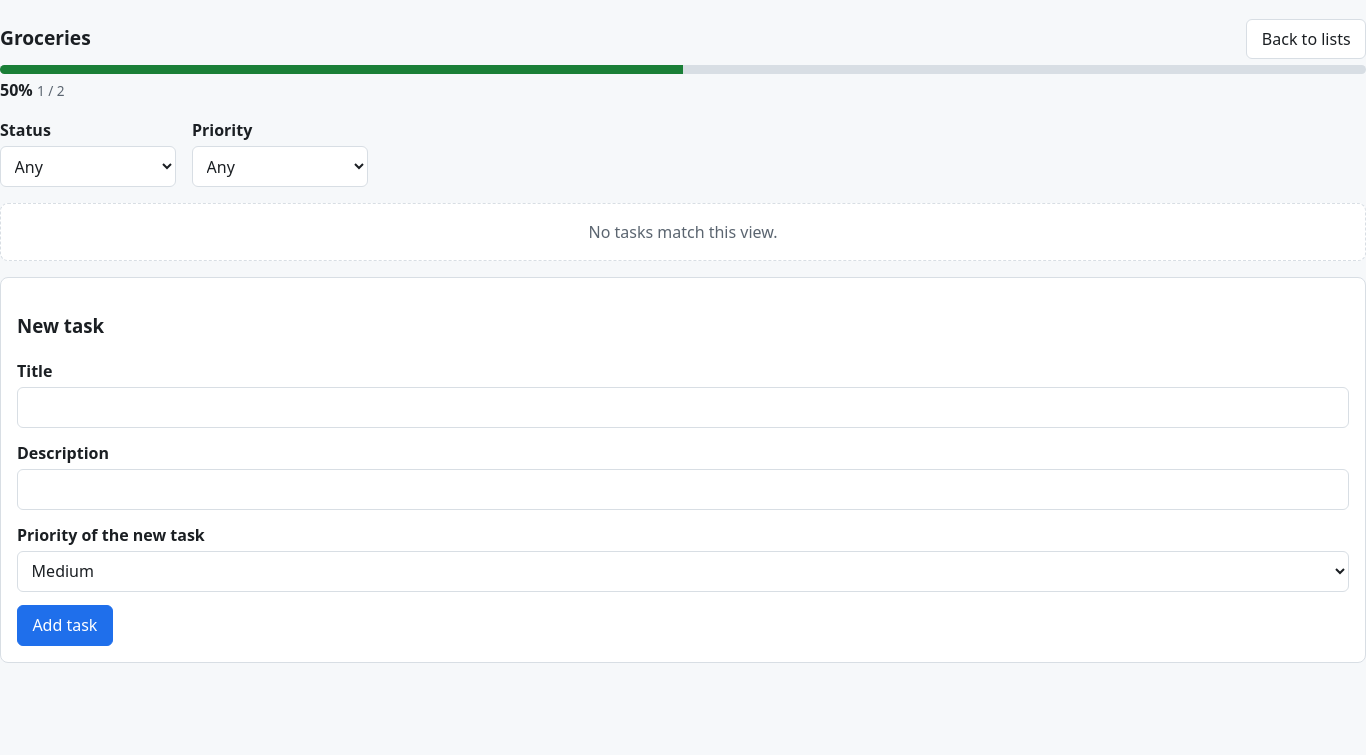
Test case: creating a task › posts the title, description and priority, defaulting the priority to the API's own default
The width and height of the screenshot is (1366, 755).
Expected: the text "No tasks match this view." is shown, x1=0 y1=203 x2=1365 y2=261
Step 1. Type "Buy eggs" into the field labelled "Title" → (683, 408), box x1=17 y1=387 x2=1349 y2=428
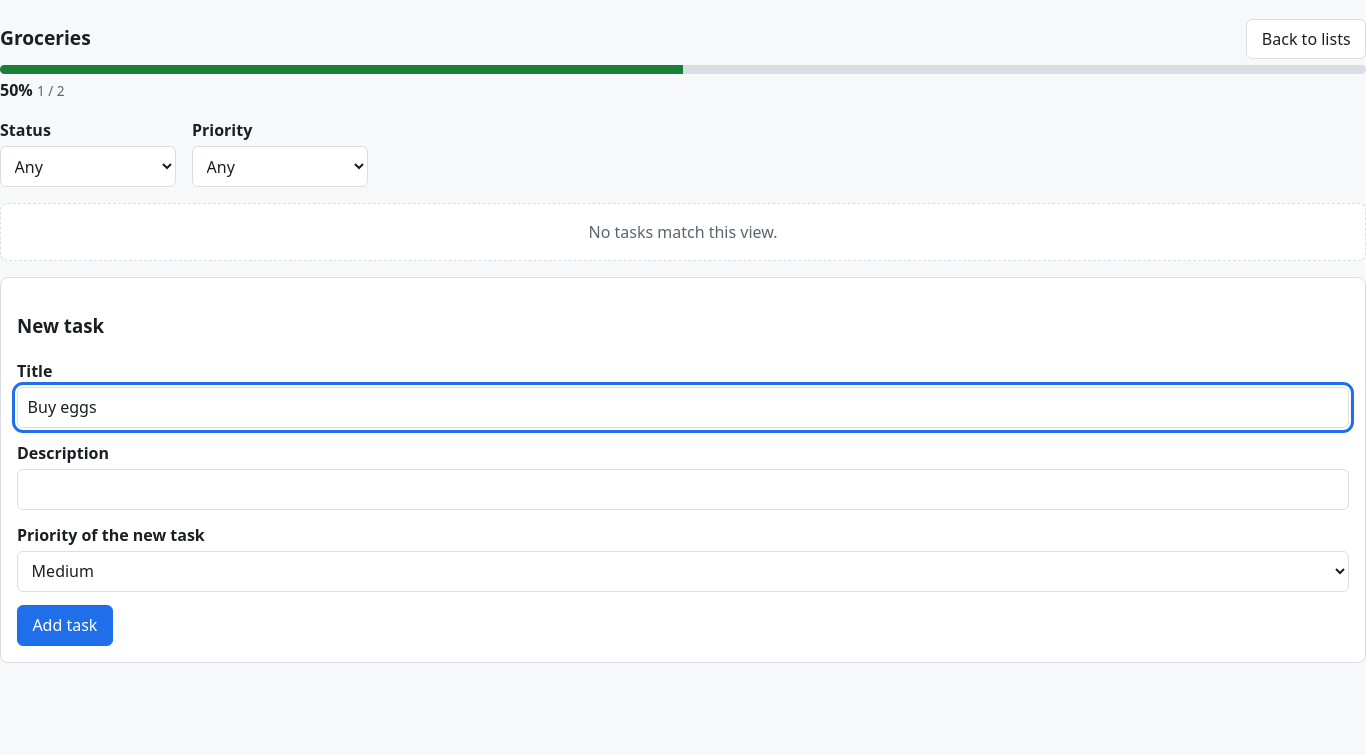
Step 2. Type "A dozen" into the field labelled "Description" → (683, 490), box x1=17 y1=469 x2=1349 y2=510
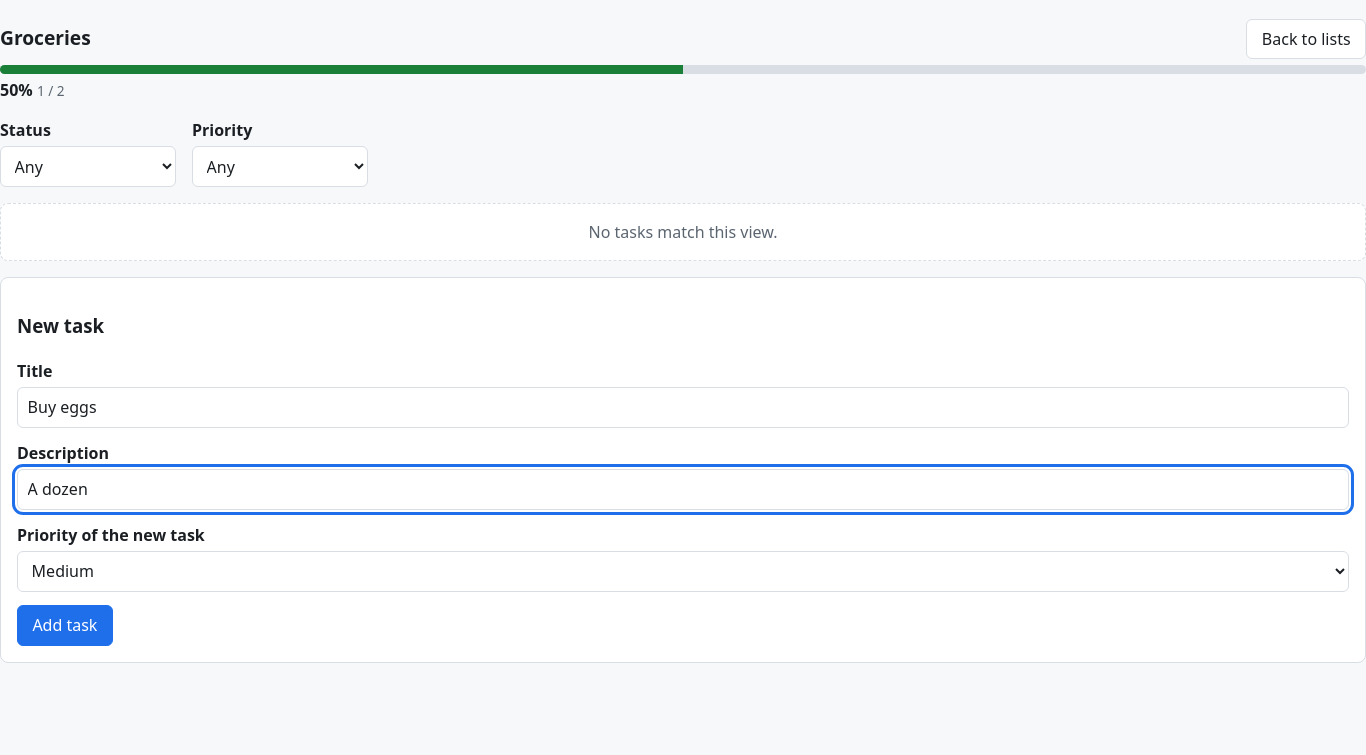
Step 3. Click the button "Add task" → (65, 625), box x1=17 y1=605 x2=113 y2=646
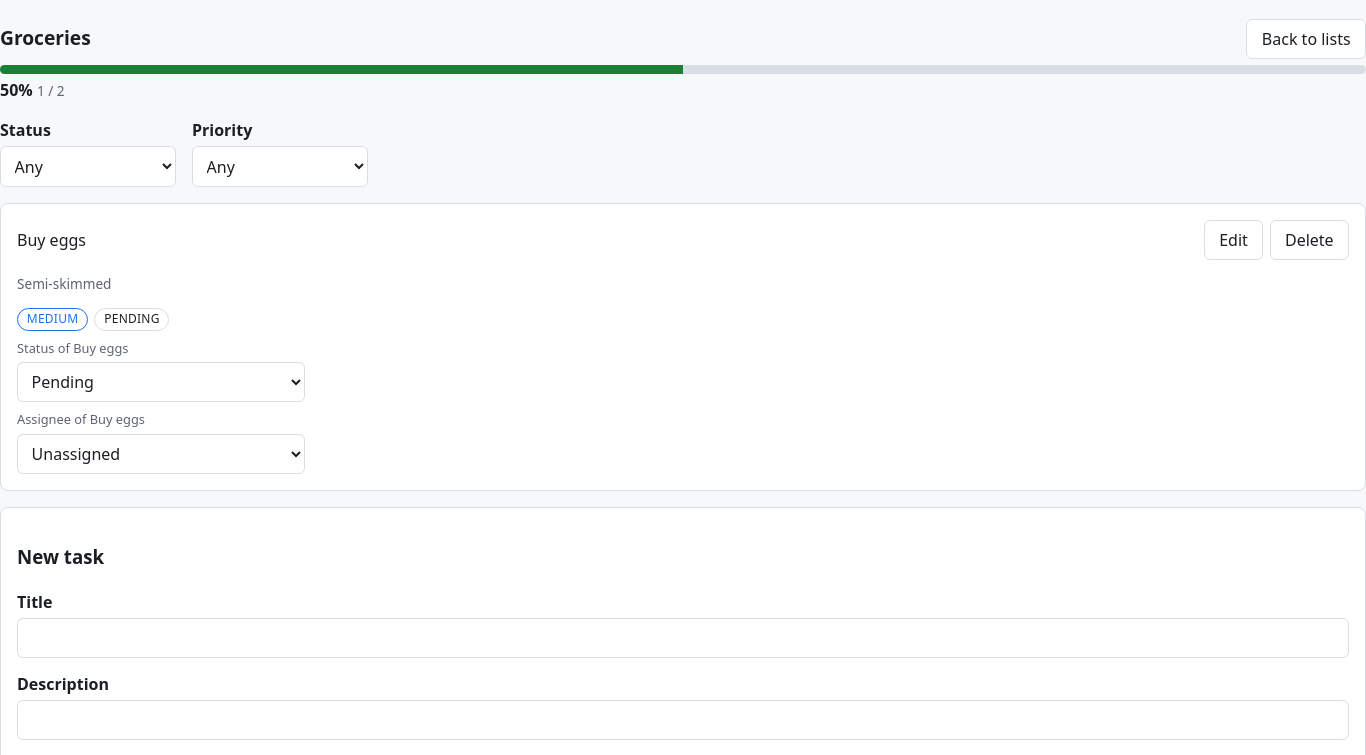
Result: the text "Buy eggs" is shown at x1=17 y1=228 x2=86 y2=252
